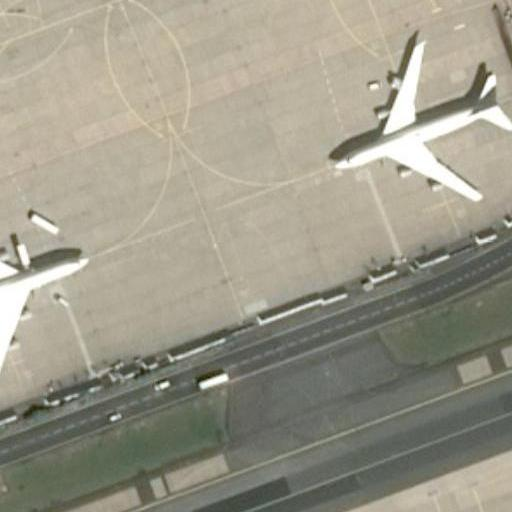Aircraft: (319, 28, 508, 209), (1, 216, 94, 364)
